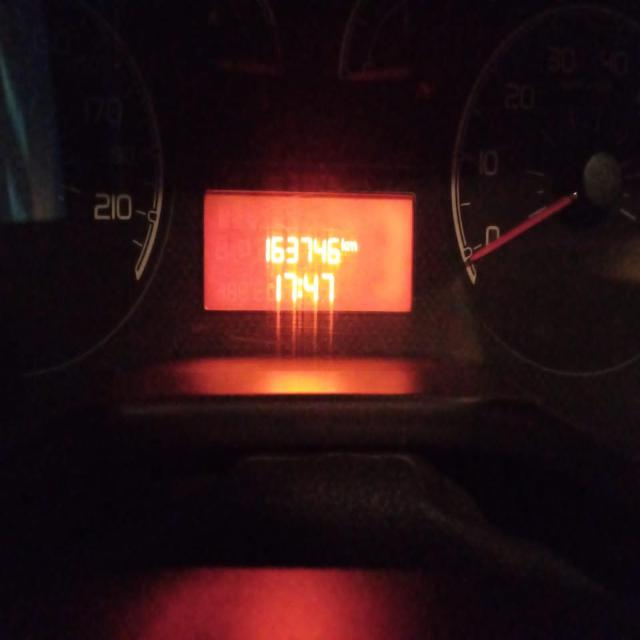odometer: (196, 186, 418, 319)
